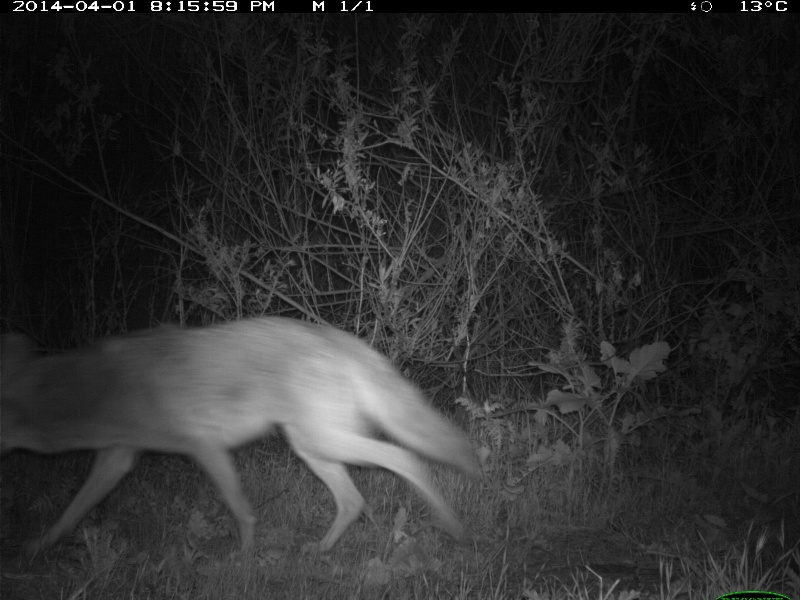coyote: (1, 309, 480, 566)
